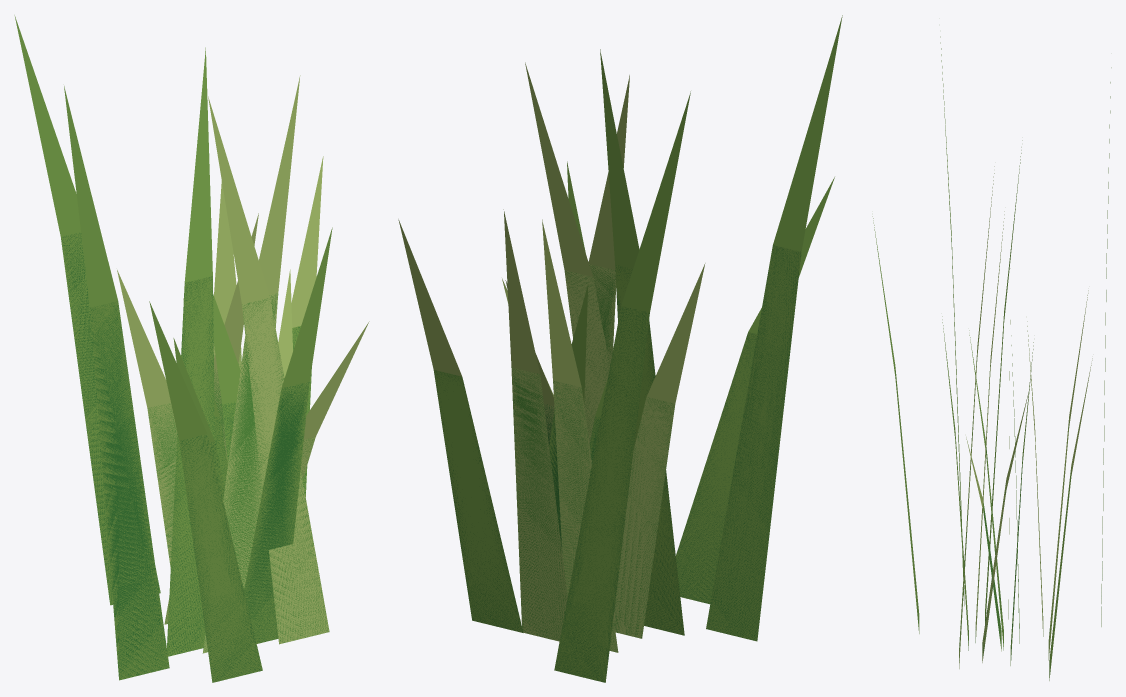
File: grass_clump.glb
3 renders of one model, left to right at view 1: azimuth 30°, elevation 25°; view 2: azimuth 150°, elevation 25°; view 3: azimuth 270°, elevation 25°, orthographic. The views are drawn at different scales.
Parts seen in each view (by area): view 1: grass_clump; view 2: grass_clump; view 3: grass_clump.
Boxes of the visible parts, <box> form: grass_clump: <box>14,15,369,682</box>; grass_clump: <box>398,15,842,682</box>; grass_clump: <box>872,36,1111,680</box>.
Bounding box in the file's own units: 0.3448 × 0.5896 × 0.2371.
